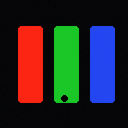0 point: (61, 95, 67, 101)
